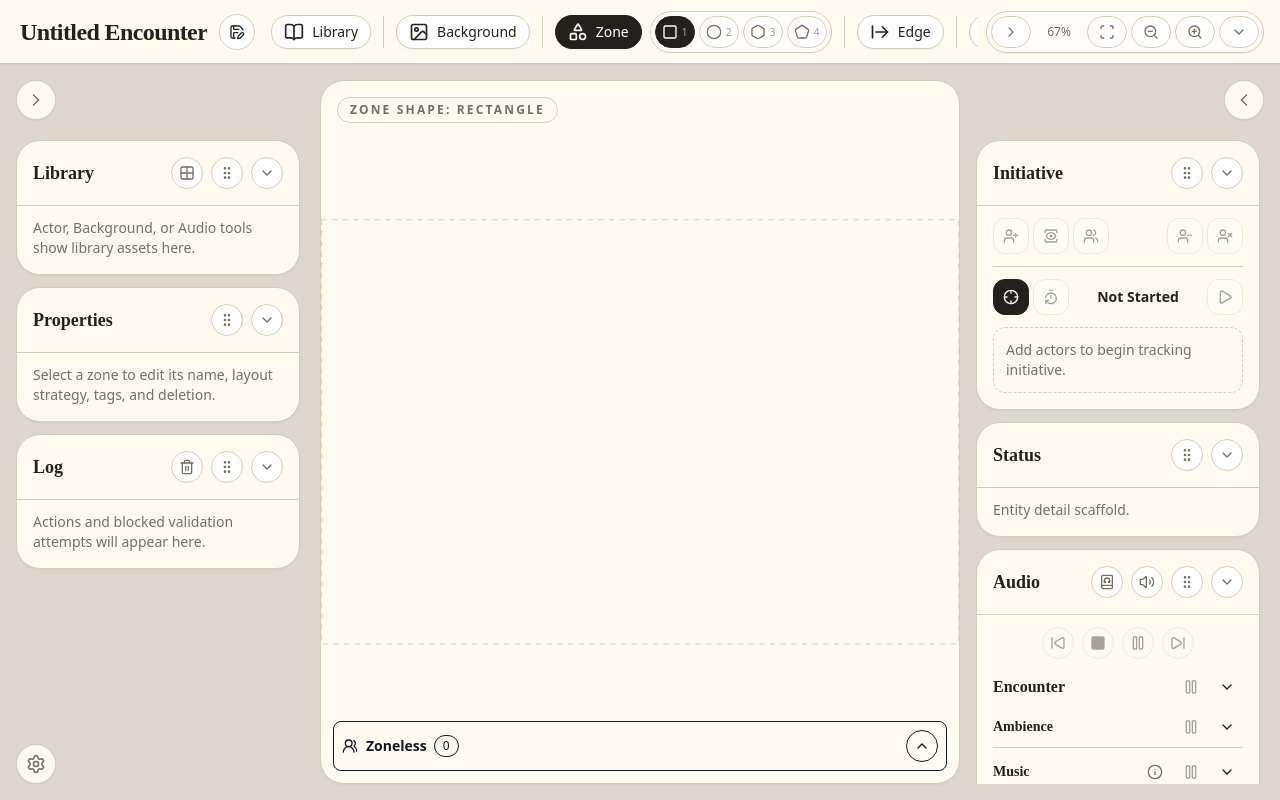
Test: EncounterTitleControls save button › commits a trimmed title as one undoable history action
The width and height of the screenshot is (1280, 800).
Click the button with aria-label "Edit encounter name Untitled Encounter".
click(114, 32)  # box [16,12,211,52]
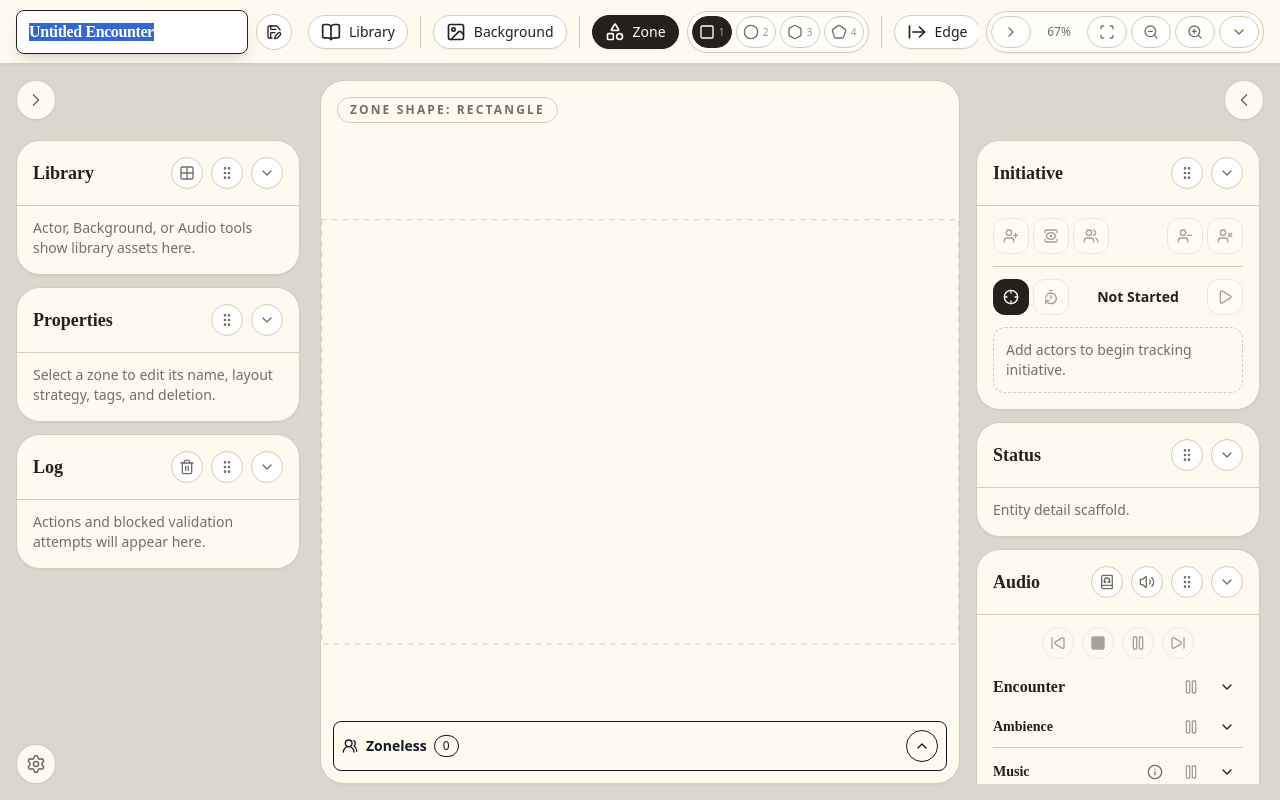
Replace the text in the field named "Encounter name" with "  Ruined Keep  " at (132,32), box [16,10,248,54]
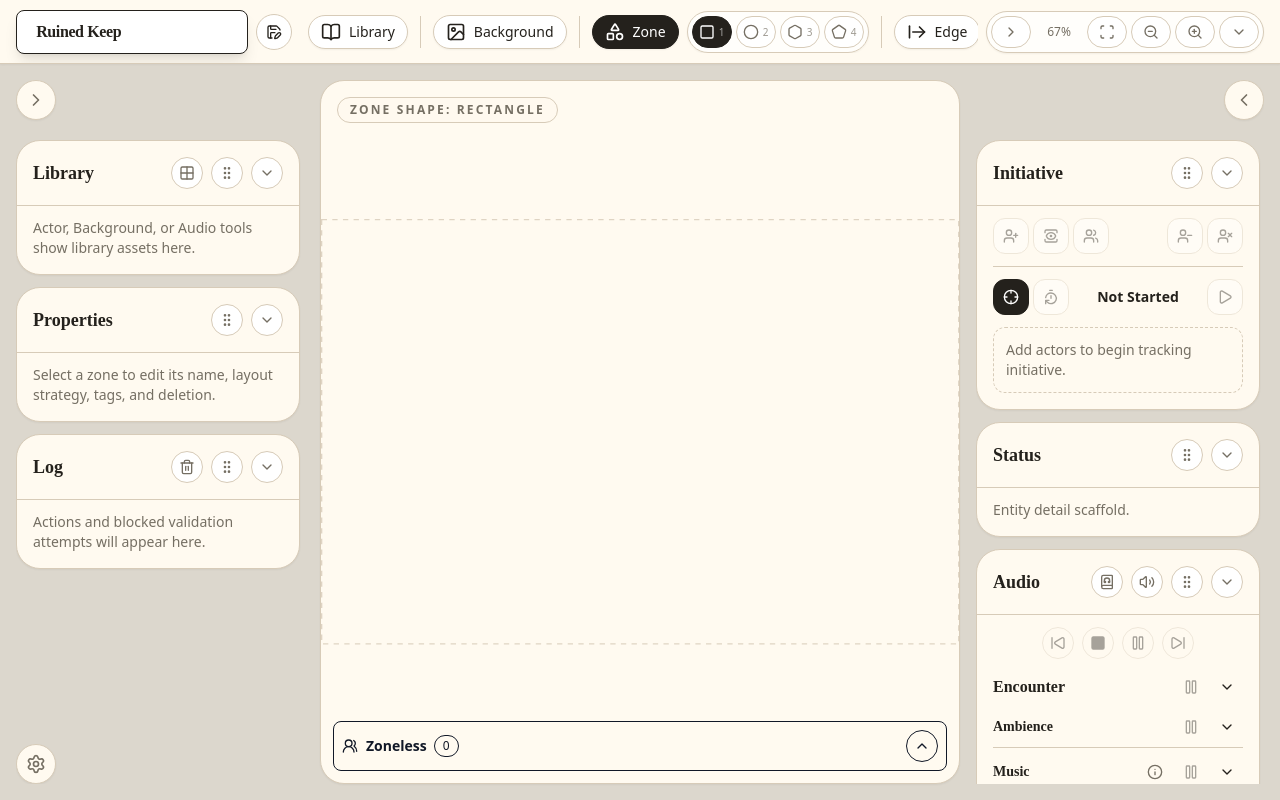
Leave the field named "Encounter name", box [16,10,248,54]
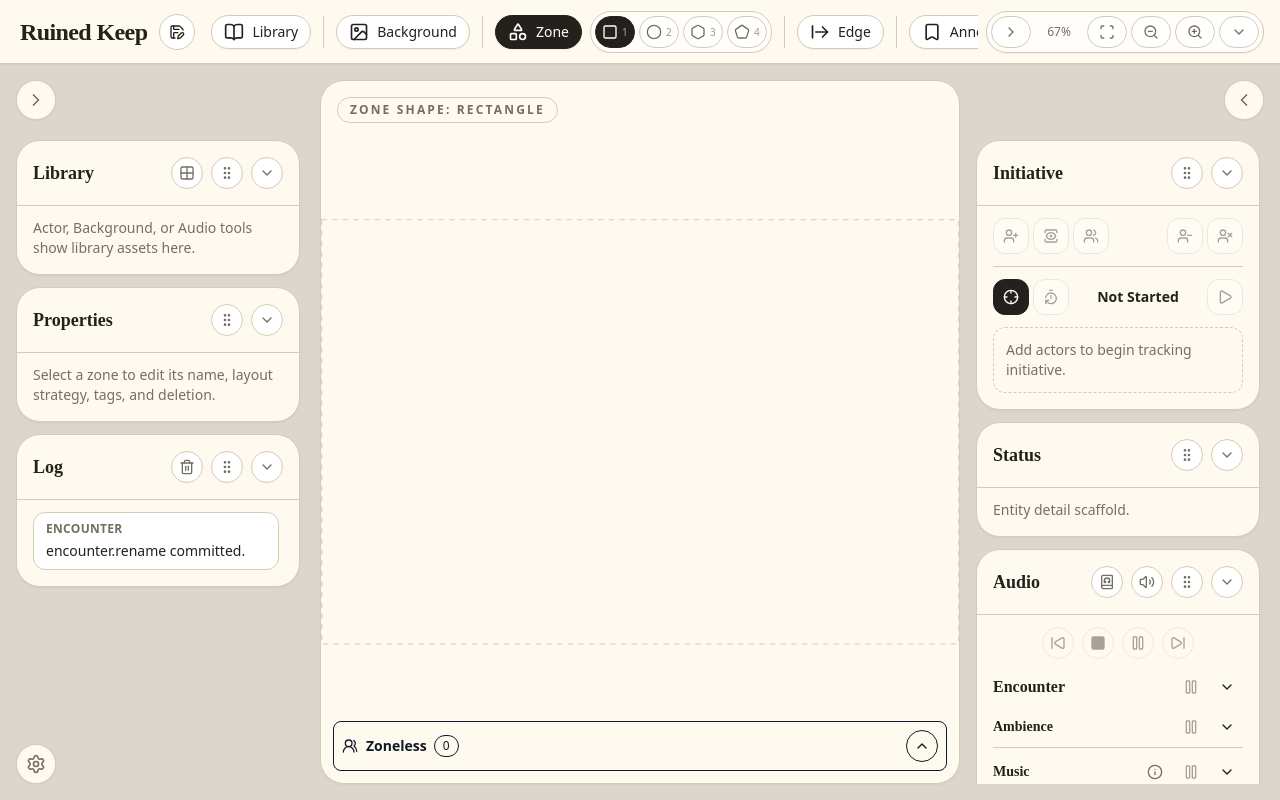
Expected: the text "Ruined Keep" is shown, [20,16,147,48]
